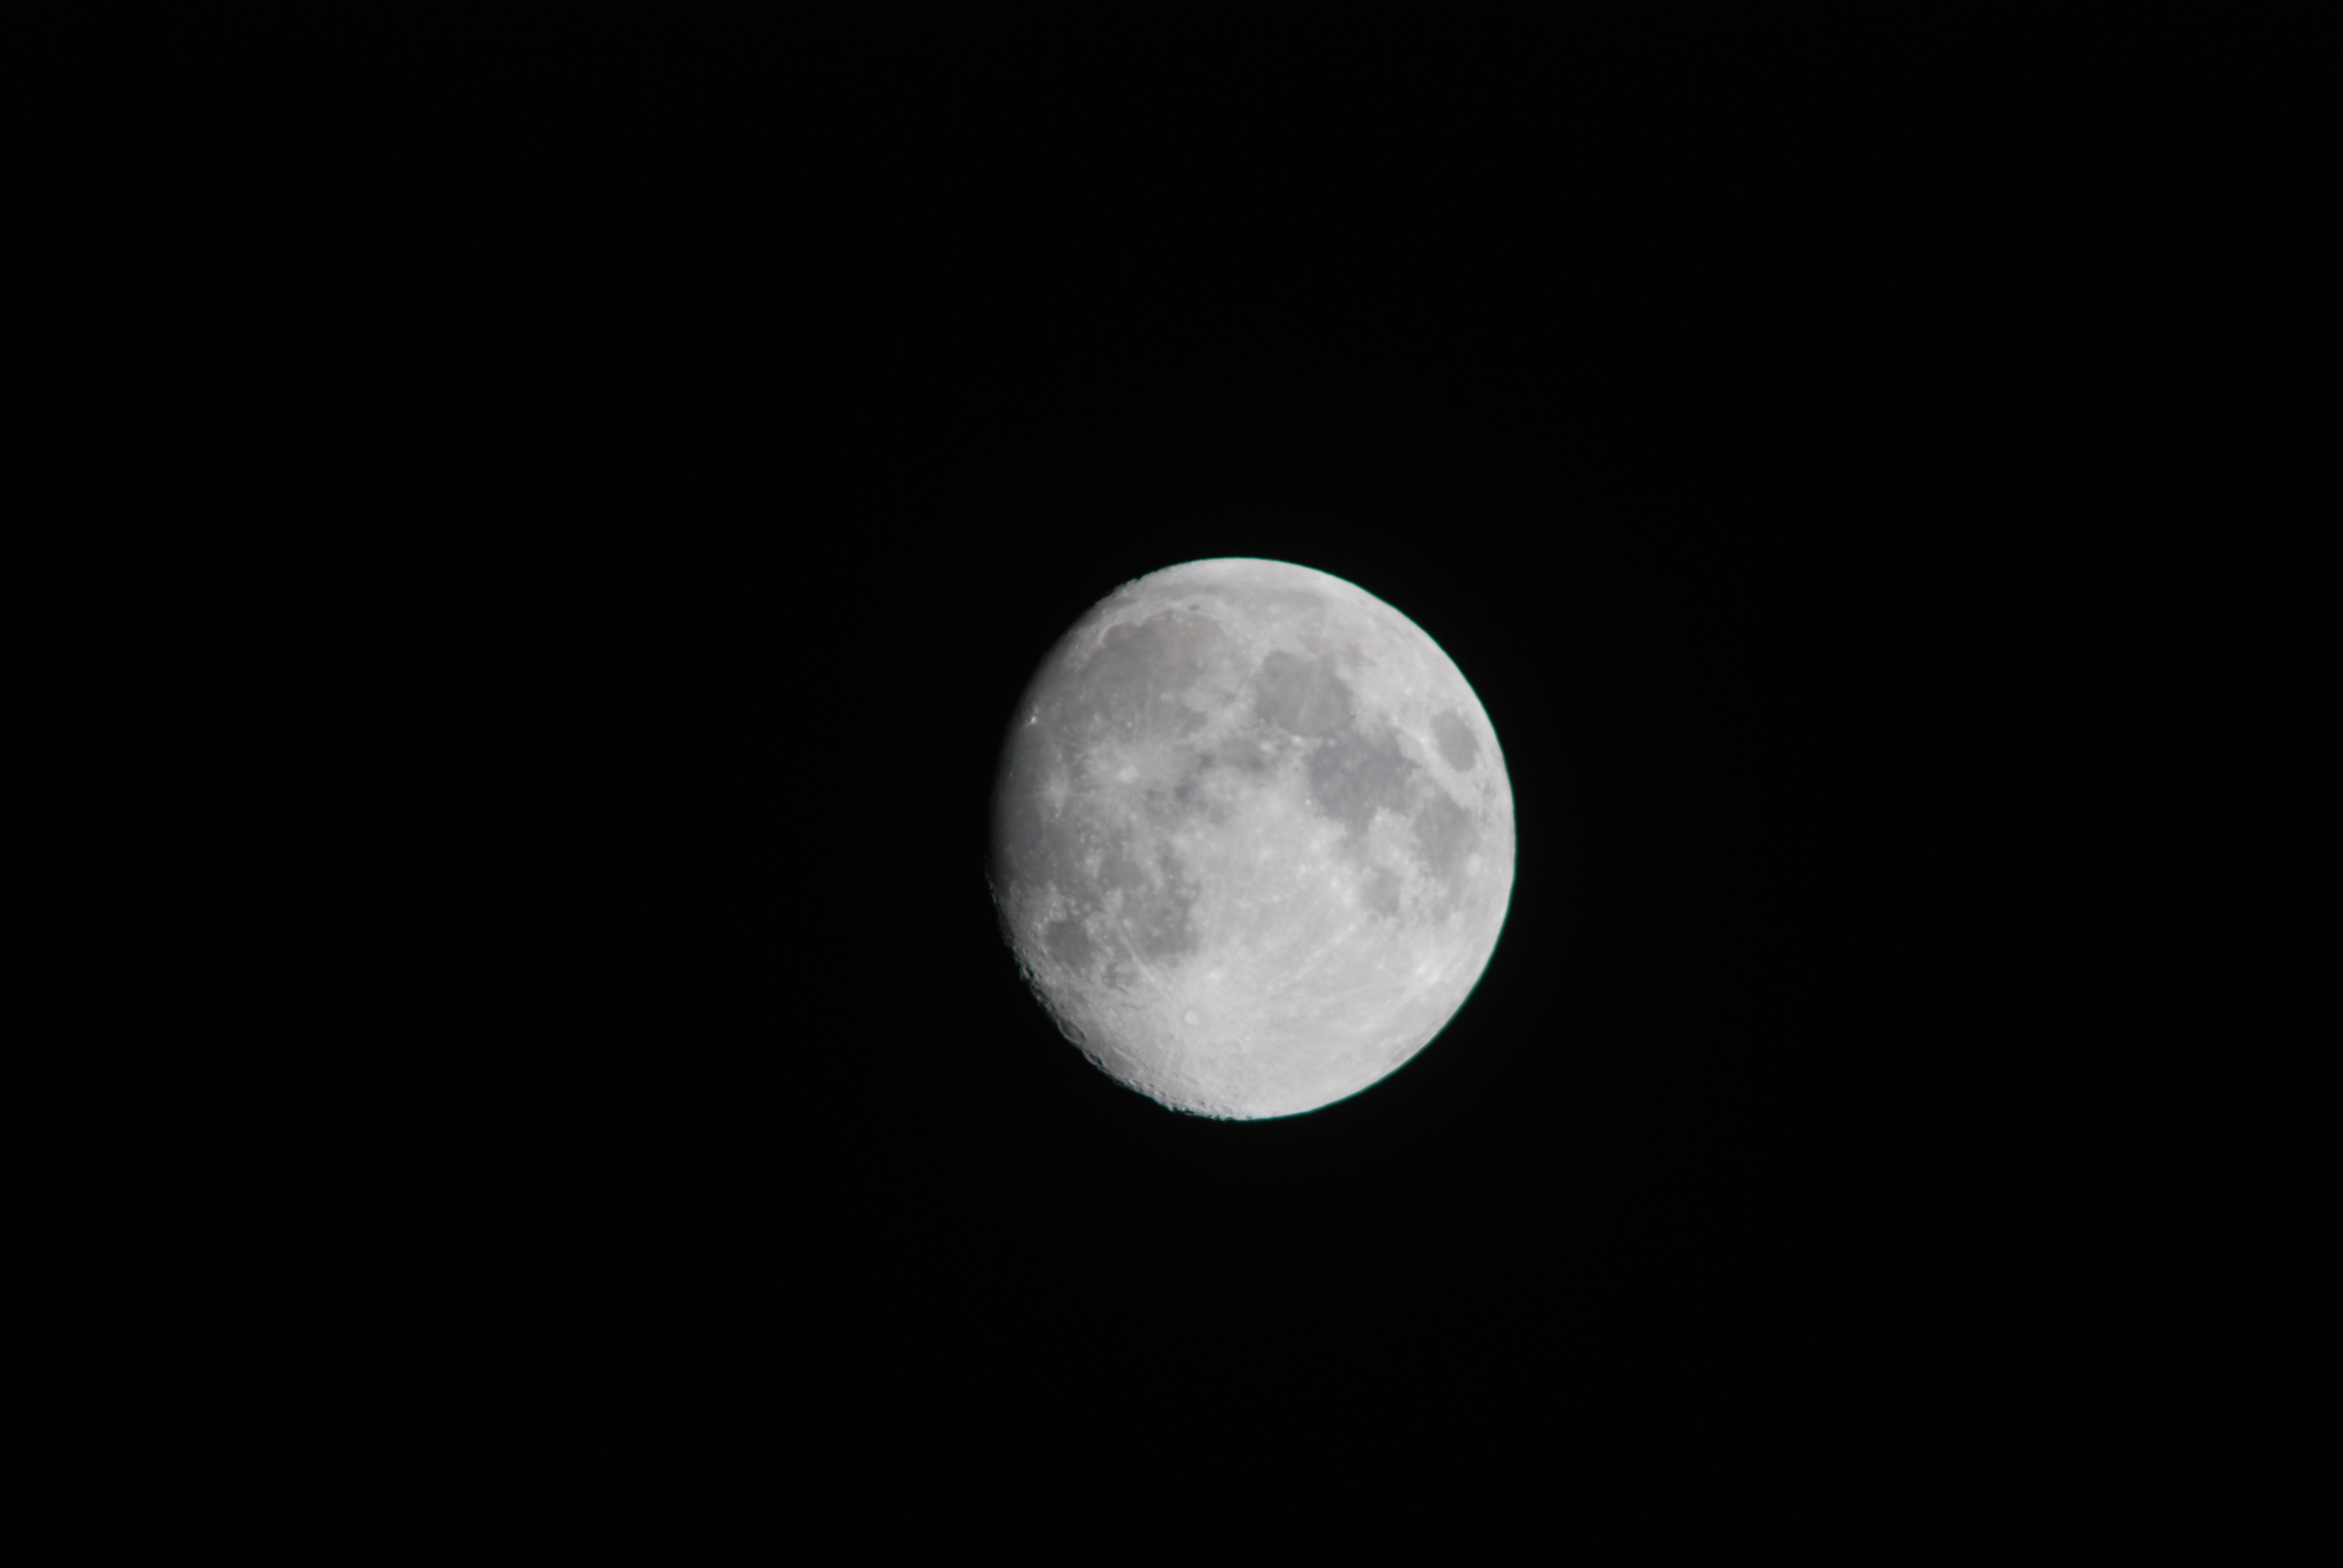crater: (1120, 950, 1284, 1059), (1073, 707, 1193, 830), (1025, 761, 1076, 815), (1092, 619, 1150, 656), (1053, 1011, 1109, 1046), (1178, 591, 1209, 616), (1297, 791, 1316, 810)
